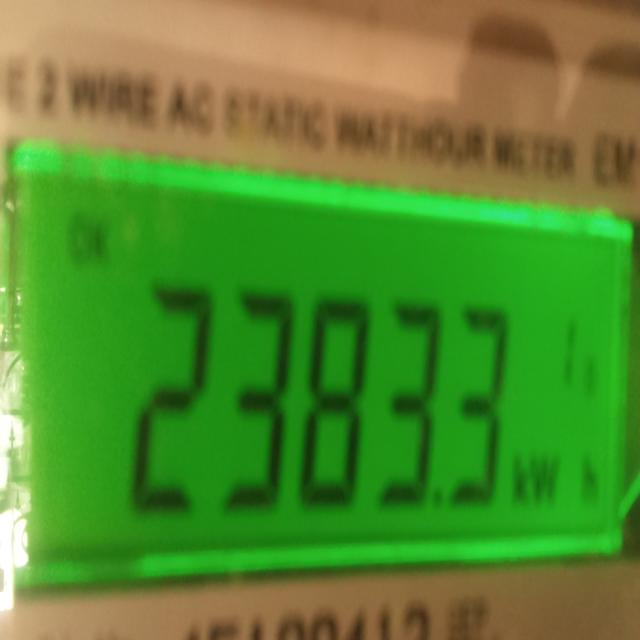.: (431, 479, 447, 516)
2: (134, 268, 209, 516)
3: (219, 280, 296, 516), (379, 288, 444, 514), (448, 290, 507, 511)
8: (297, 289, 380, 513)
